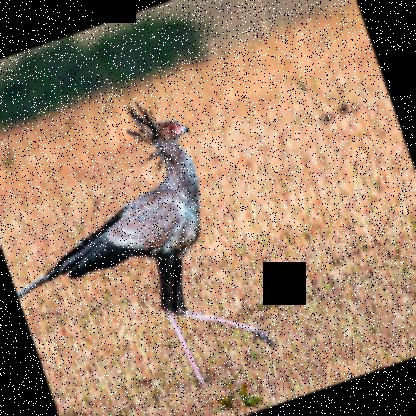Sagittarius serpentarius: (0, 83, 283, 415)
